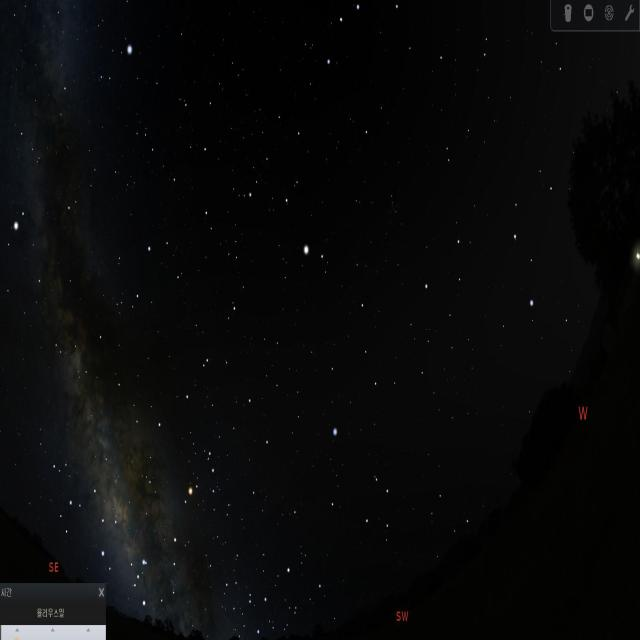aquila: (6, 196, 77, 366)
bootes: (259, 106, 335, 286)
leo: (406, 161, 554, 329)
lyra: (90, 30, 140, 100)
sagittarius: (42, 444, 124, 573)
scorpius: (126, 432, 223, 626)
